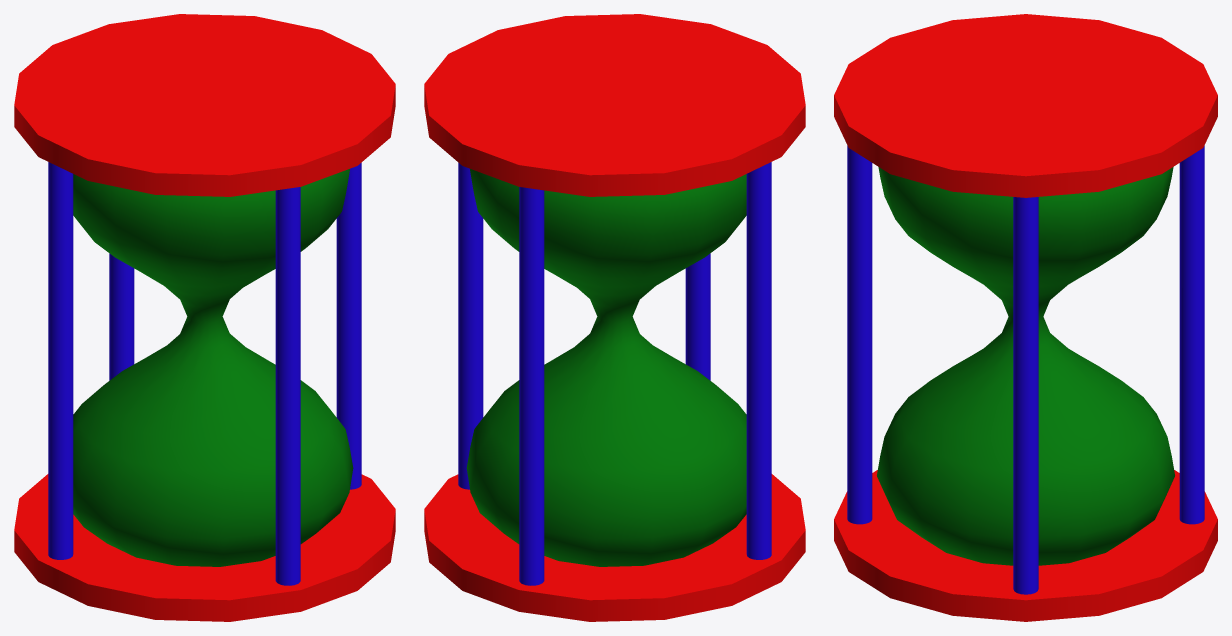
File: Hourglass.FBX
3 renders of one model, left to right at view 1: azimuth 30°, elevation 25°; view 2: azimuth 150°, elevation 25°; view 3: azimuth 270°, elevation 25°, orthographic.
Parts seen in each view (by area): view 1: Cylinder005, Cylinder007, Cylinder006, Cylinder011, Cylinder010, Cylinder008, Cylinder009; view 2: Cylinder005, Cylinder007, Cylinder006, Cylinder009, Cylinder010, Cylinder008, Cylinder011; view 3: Cylinder005, Cylinder007, Cylinder006, Cylinder008, Cylinder009, Cylinder011.
Boxes of the visible parts, box(x1,y1,x2,y2) form: Cylinder005: box(73, 169, 353, 566); Cylinder007: box(14, 14, 395, 196); Cylinder006: box(14, 474, 395, 621); Cylinder011: box(275, 187, 300, 585); Cylinder010: box(48, 162, 73, 559); Cylinder008: box(336, 163, 361, 489); Cylinder009: box(109, 253, 134, 380); Cylinder005: box(466, 169, 746, 566); Cylinder007: box(424, 14, 805, 196); Cylinder006: box(424, 474, 805, 621); Cylinder009: box(519, 187, 544, 585); Cylinder010: box(746, 162, 771, 559); Cylinder008: box(458, 163, 483, 489); Cylinder011: box(685, 253, 710, 380); Cylinder005: box(877, 167, 1174, 565); Cylinder007: box(834, 14, 1217, 197); Cylinder006: box(834, 470, 1217, 621); Cylinder008: box(1013, 197, 1038, 594); Cylinder009: box(1179, 145, 1204, 524); Cylinder011: box(847, 145, 872, 524).
Bounding box in the file's own units: 43.9 × 56.24 × 43.9.
